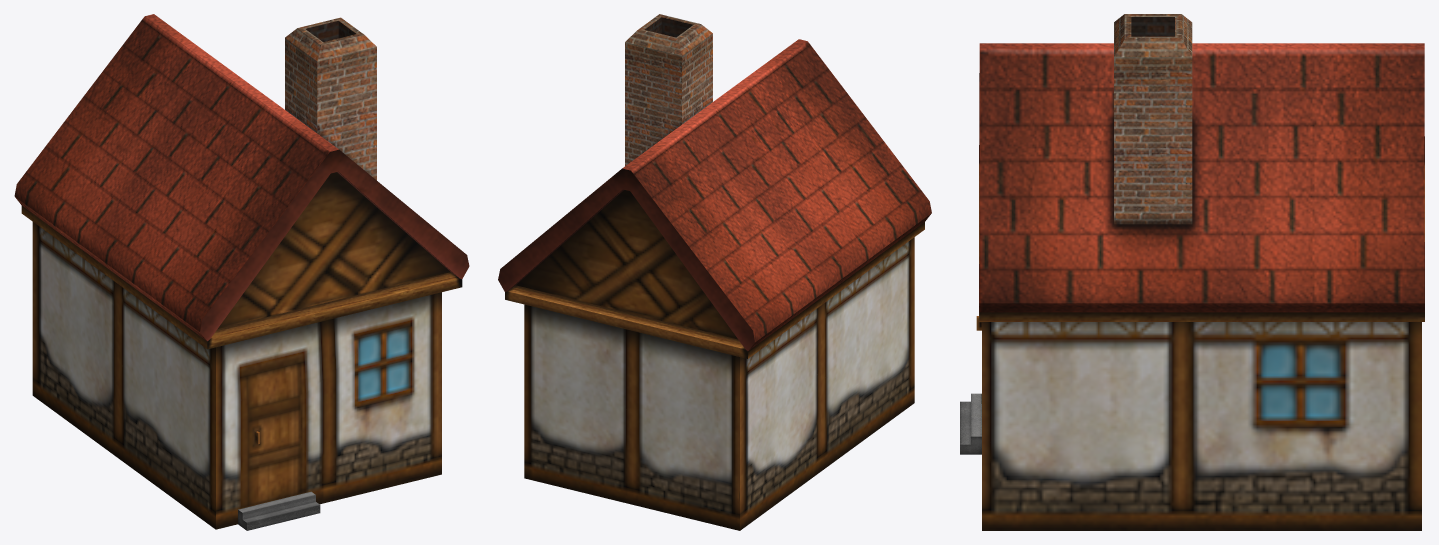
Rendered from house_red.fbx.
The picture shows the model from 3 angles, left to right: view 1: azimuth 30°, elevation 25°; view 2: azimuth 150°, elevation 25°; view 3: azimuth 270°, elevation 25°; orthographic projection. The views are drawn at different scales.
Parts seen in each view (by area): view 1: polySurface19; view 2: polySurface19; view 3: polySurface19.
Boxes of the visible parts, x1,y1,x2,y2 form: polySurface19: [14, 14, 469, 530]; polySurface19: [498, 14, 931, 530]; polySurface19: [960, 14, 1424, 530].
Bounding box in the file's own units: 358 × 509 × 446.
